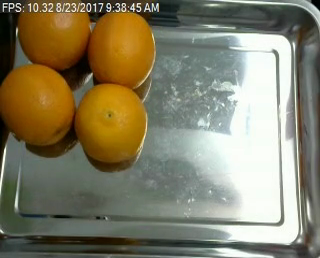Orange: (2, 64, 75, 146), (75, 82, 148, 163), (87, 11, 156, 88), (18, 12, 90, 71)
